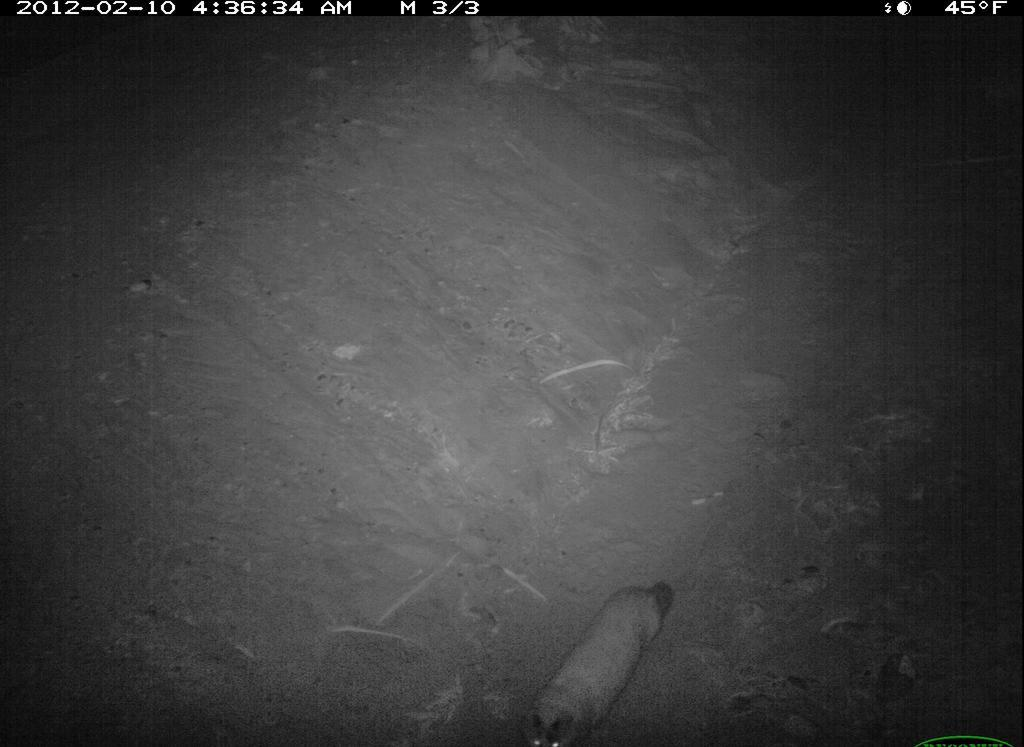cat: (520, 574, 679, 747)
